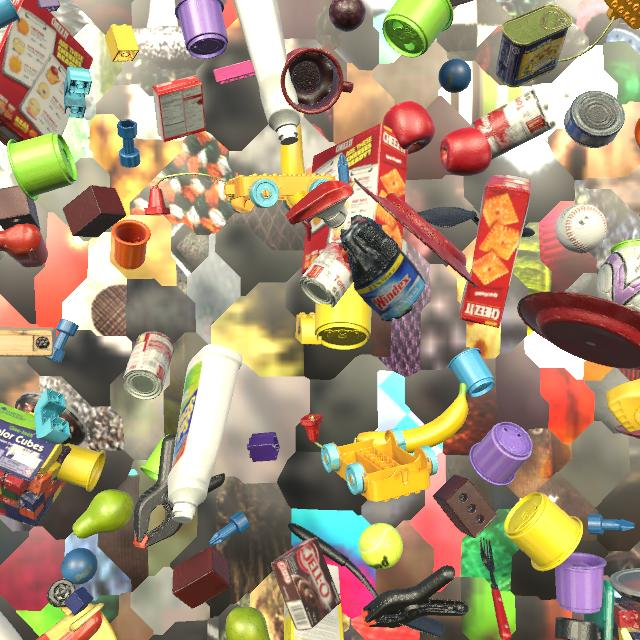ycb_003_cracker_box: (301, 123, 408, 274), (0, 0, 93, 147), (460, 174, 531, 328), (449, 0, 474, 7)
ycb_004_sugar_box: (284, 564, 344, 640)
ycb_005_tomato_soup_can: (472, 90, 551, 160), (123, 331, 175, 400), (299, 242, 353, 308)
ycb_006_mustard_bottle: (605, 379, 640, 439)
ycb_007_tuna_fish_can: (564, 90, 625, 148)
ycb_008_pudding_box: (271, 537, 341, 630)
ycb_009_gelatin_box: (152, 75, 206, 142)
ycb_010_potted_meat_can: (495, 4, 572, 87)
ycb_011_banana: (357, 383, 468, 453), (280, 123, 308, 207)
ycb_013_apple: (383, 101, 435, 154), (440, 127, 492, 176)
ycb_016_pear: (73, 489, 134, 539), (225, 607, 270, 640)
ycb_018_plum: (329, 0, 366, 32)
